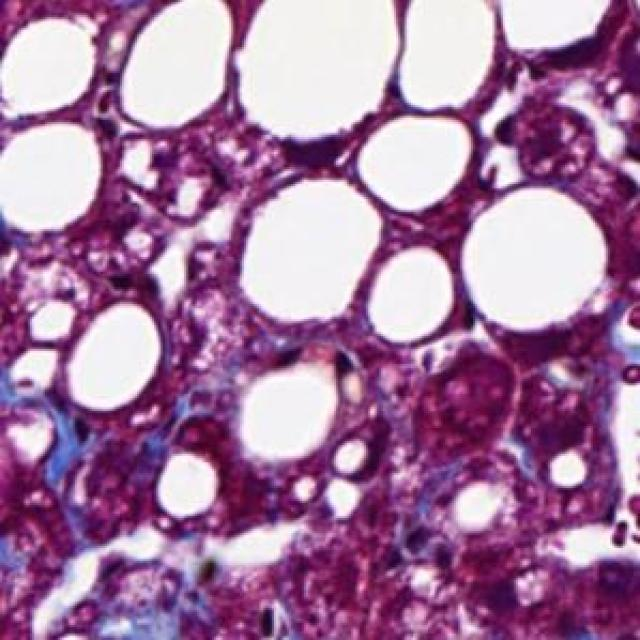inflammation: (372, 518, 460, 584), (323, 415, 398, 482)
